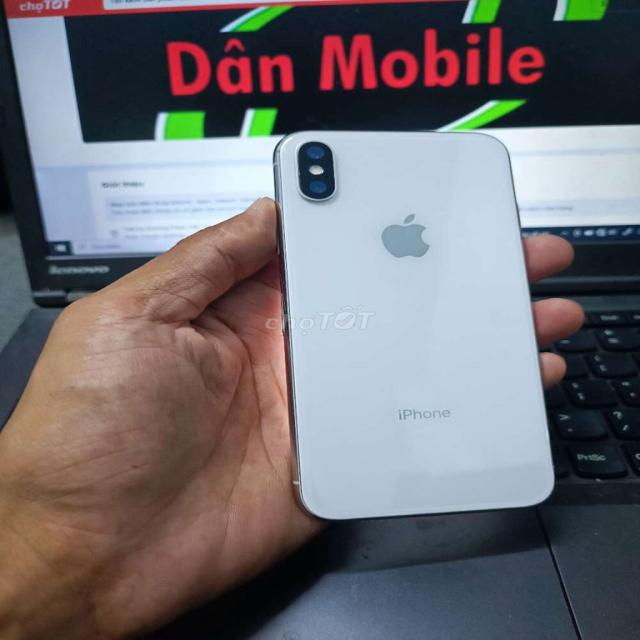gen_x_xs: (268, 130, 564, 518)
